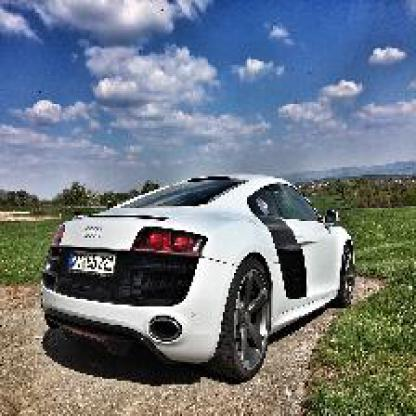not_emergency: (34, 152, 370, 390)
